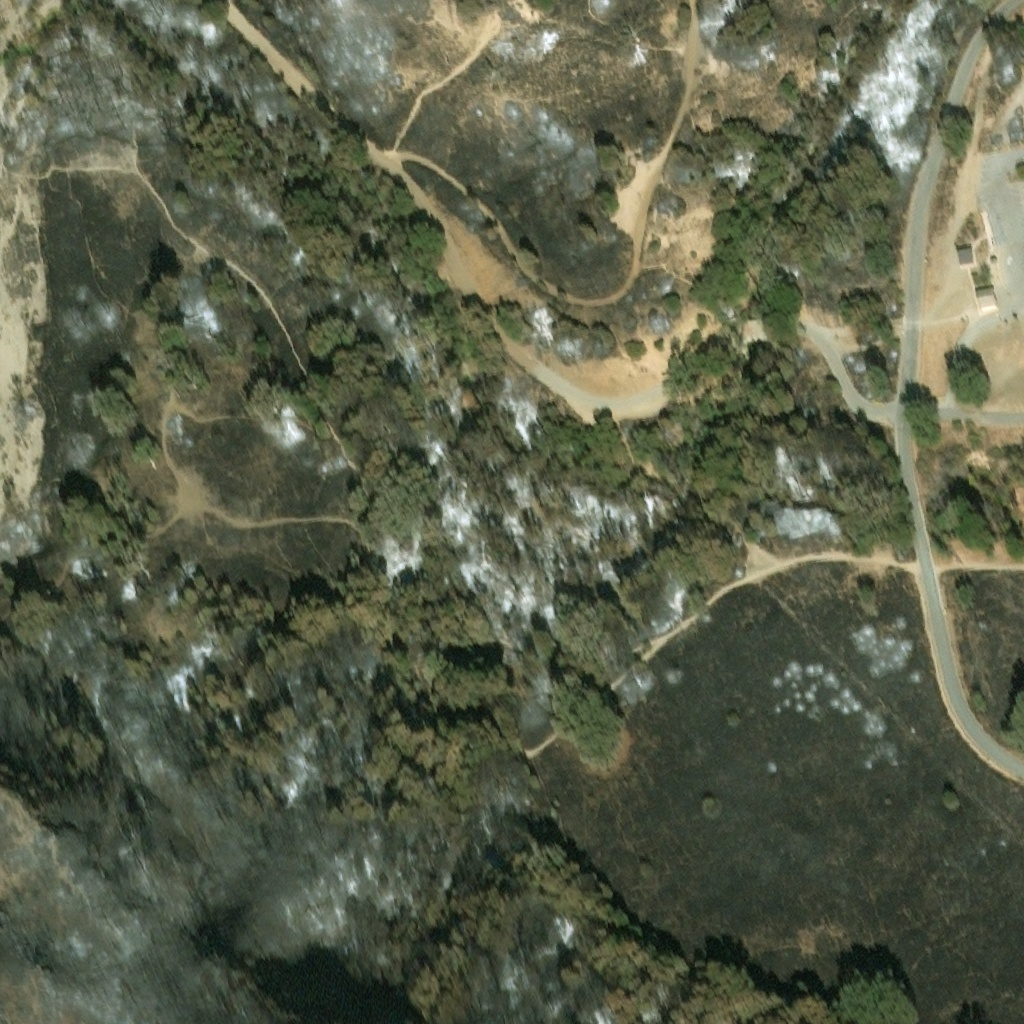0 no-damage: (735, 312, 764, 331), (977, 285, 996, 306), (958, 247, 975, 263)
